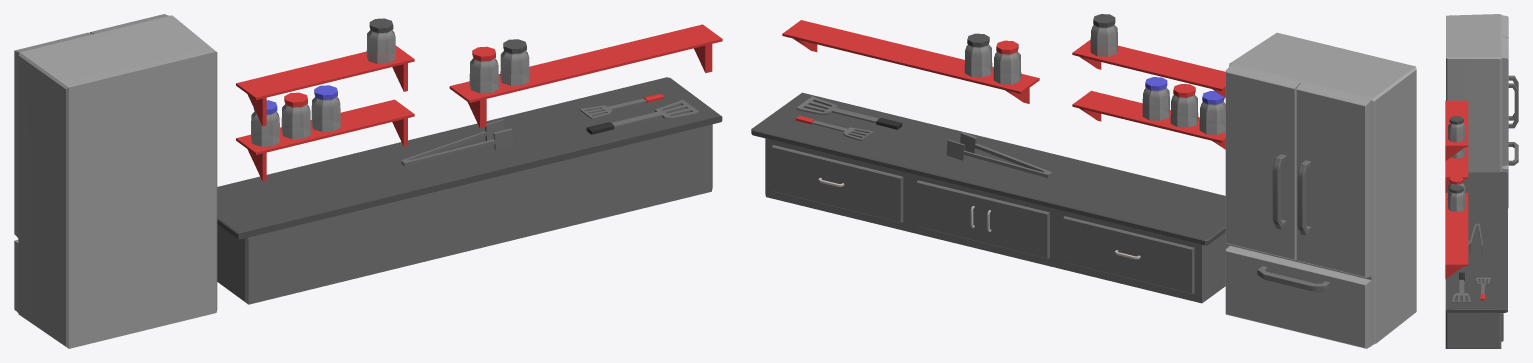
Rendered from Obj_Objetos_de_Pared_2.fbx.
3 renders of one model, left to right at view 1: azimuth 30°, elevation 25°; view 2: azimuth 150°, elevation 25°; view 3: azimuth 270°, elevation 25°, orthographic. The views are drawn at different scales.
Visible parts, largest first — view 1: Objetos_de_Pared_2; view 2: Objetos_de_Pared_2; view 3: Objetos_de_Pared_2.
Boxes of the visible parts, box(x1,y1,x2,y2) form: Objetos_de_Pared_2: box(14, 14, 722, 348); Objetos_de_Pared_2: box(751, 14, 1416, 348); Objetos_de_Pared_2: box(1445, 14, 1518, 348).
Size of the model in its own units: 19.12 by 7.3 by 3.17.
